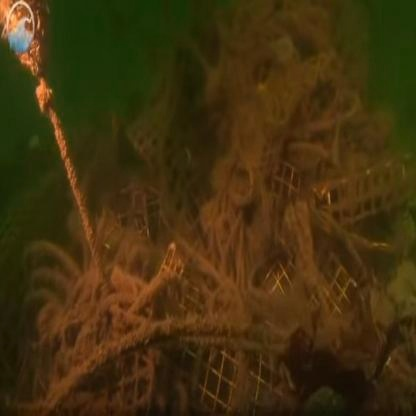net: (41, 124, 337, 416)
